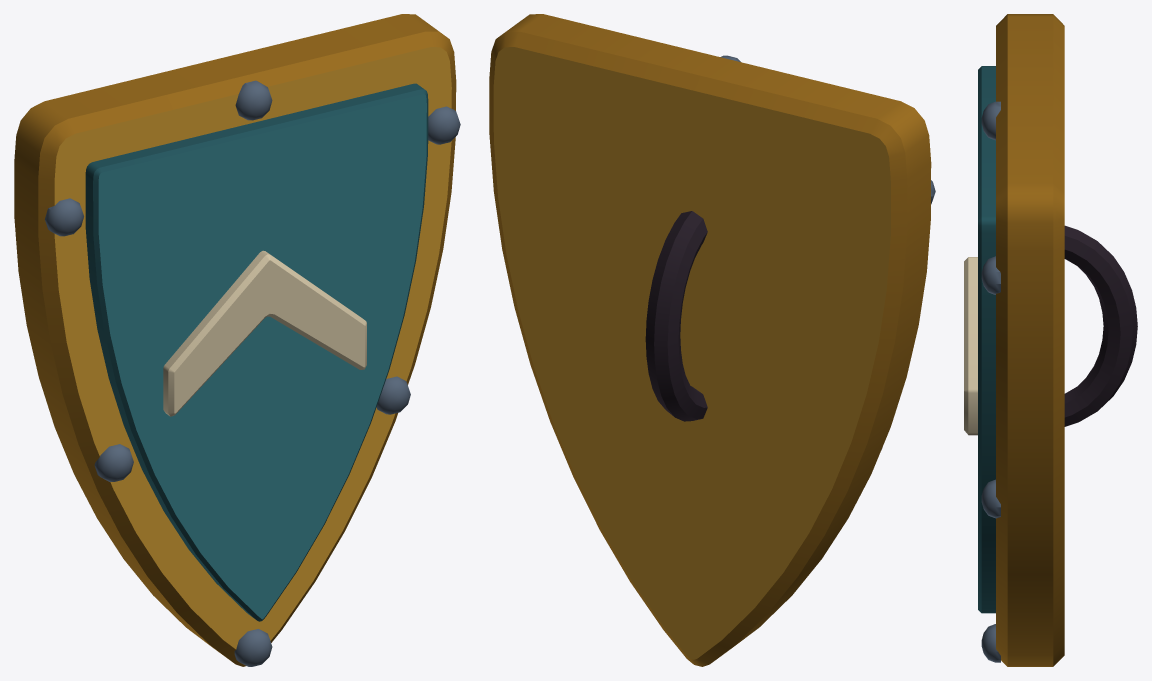
The model's file is HeaterShield_08.glb.
The picture shows the model from 3 angles, left to right: view 1: azimuth 30°, elevation 25°; view 2: azimuth 150°, elevation 25°; view 3: azimuth 270°, elevation 25°; orthographic projection. The views are drawn at different scales.
Parts seen in each view (by area): view 1: HeaterShield_08; view 2: HeaterShield_08; view 3: HeaterShield_08.
Boxes of the visible parts, x1,y1,x2,y2 form: HeaterShield_08: (14,14,460,666); HeaterShield_08: (489,14,935,666); HeaterShield_08: (964,14,1137,666).
Bounding box in the file's own units: 2.02 × 2.73 × 0.76.
